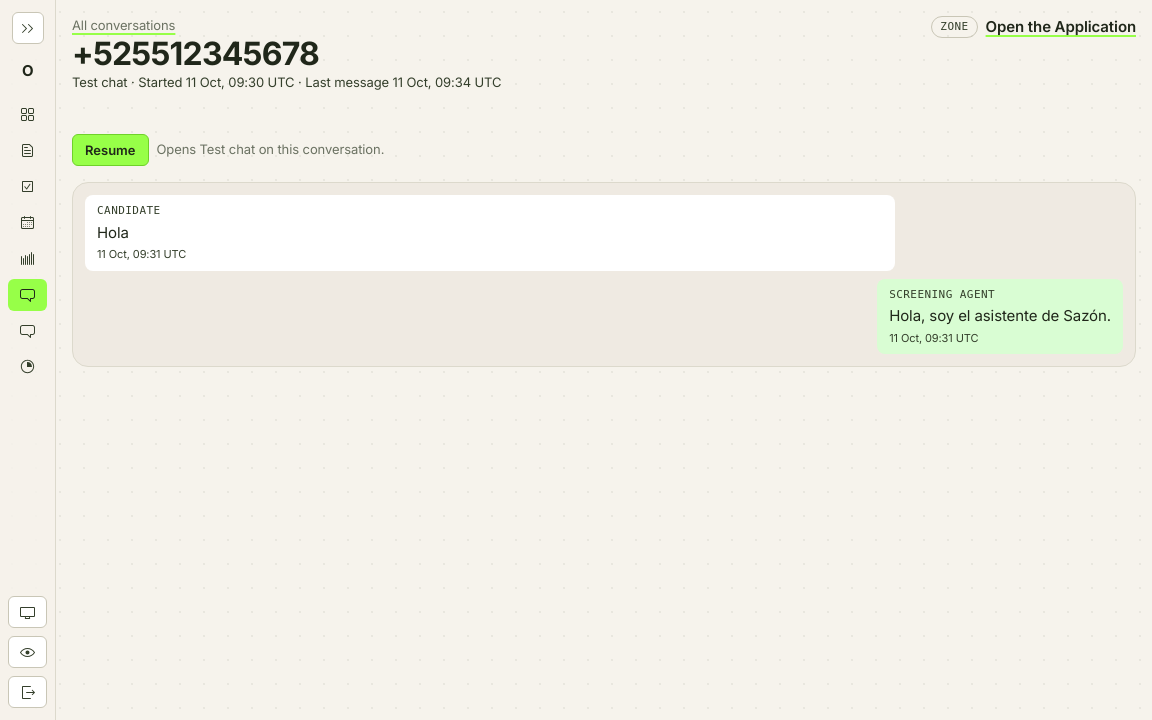
Scenario: CH5 the read-only view › stays usable and says so politely when session storage refuses the id
Click the button "Resume".
click(110, 150)  # box [72, 134, 148, 166]
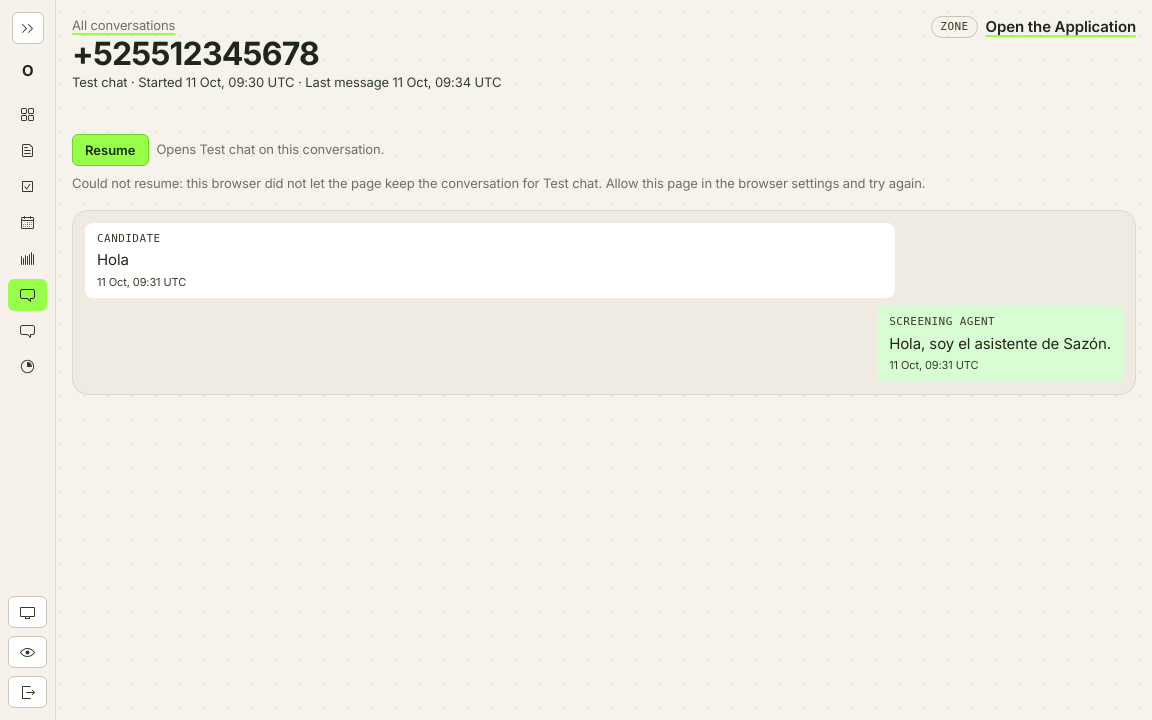
expect the element named "Transcript" is shown: met, box [72, 210, 1136, 394]
expect the text "Could not resume: this browser did not let the page keep the conversation for Test chat. Allow this page in the browser " is shown: met, box [72, 175, 925, 191]
